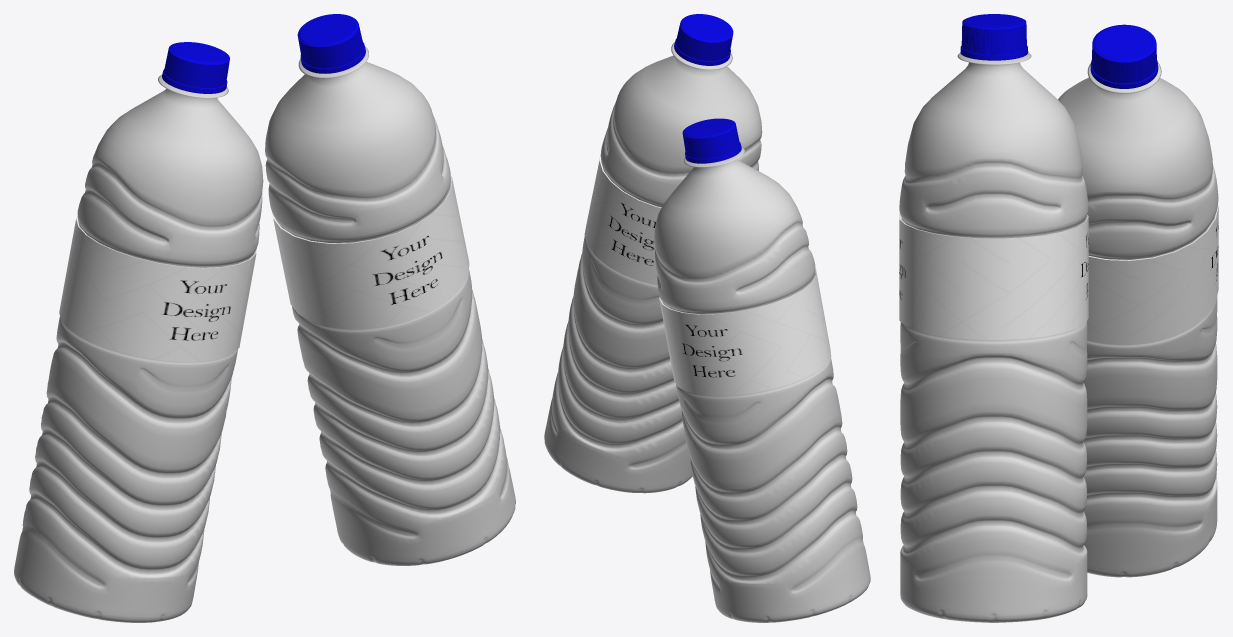
File: Plastic Bottle A-3.glb
The picture shows the model from 3 angles, left to right: view 1: azimuth 30°, elevation 25°; view 2: azimuth 150°, elevation 25°; view 3: azimuth 270°, elevation 25°; orthographic projection. The views are drawn at different scales.
Parts seen in each view (by area): view 1: Circle, Circle.002, Poster_Poster_0, Poster_Poster_0.001, Circle.001, Circle.012; view 2: Circle, Circle.002, Poster_Poster_0, Poster_Poster_0.001, Circle.001, Circle.012; view 3: Circle.002, Circle, Poster_Poster_0.001, Poster_Poster_0, Circle.012, Circle.001.
Boxes of the visible parts, box(x1,y1,x2,y2) form: Circle: box(14, 75, 263, 622); Circle.002: box(265, 46, 515, 565); Poster_Poster_0: box(59, 216, 256, 362); Poster_Poster_0.001: box(272, 175, 469, 329); Circle.001: box(297, 14, 365, 73); Circle.012: box(162, 42, 229, 93); Circle: box(654, 147, 870, 622); Circle.002: box(544, 42, 762, 493); Poster_Poster_0: box(659, 268, 831, 396); Poster_Poster_0.001: box(584, 153, 661, 284); Circle.001: box(674, 14, 733, 65); Circle.012: box(682, 118, 741, 163); Circle.002: box(899, 52, 1088, 622); Circle: box(1058, 63, 1218, 577); Poster_Poster_0.001: box(899, 214, 1088, 339); Poster_Poster_0: box(1087, 203, 1218, 344); Circle.012: box(1090, 24, 1158, 88); Circle.001: box(960, 14, 1028, 60).
Size of the model in its own units: 2.62 by 3.55 by 1.69.
Materials: 4 (1 with a texture image).
